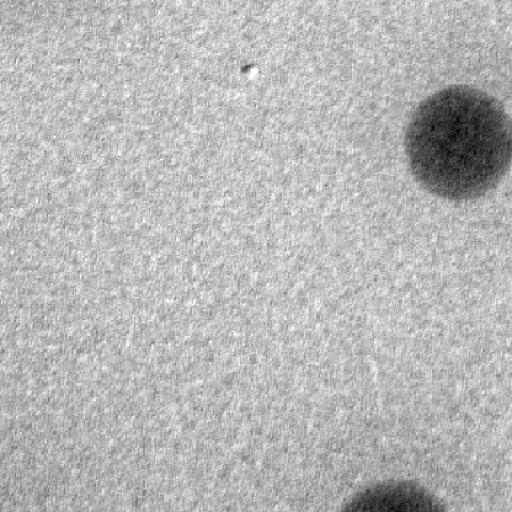Nanoparticles: (404, 83, 512, 210), (340, 478, 446, 510)
